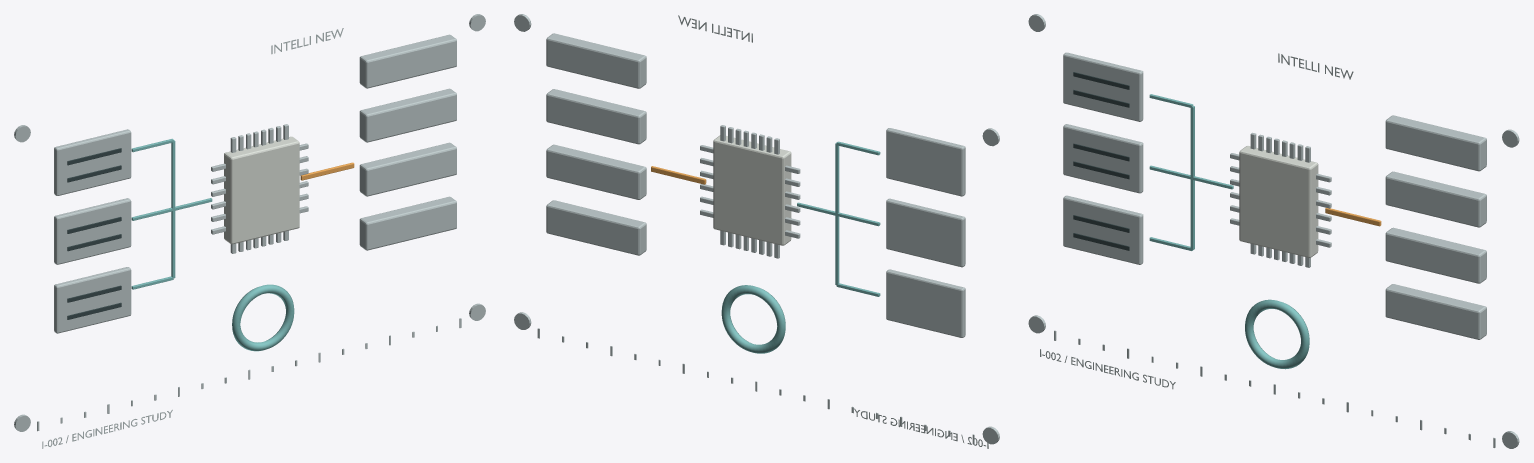
The model's file is intelli-new.glb.
The picture shows the model from 3 angles, left to right: view 1: azimuth 30°, elevation 25°; view 2: azimuth 150°, elevation 25°; view 3: azimuth 330°, elevation 25°; orthographic projection. The views are drawn at different scales.
Parts seen in each view (by area): view 1: optical-core__Project_Silver.007, optical-core__Project_Ceramic.009, optical-lenses__Project_Silver.009, optical-lenses__Project_Trace.008, optical-core__Project_Graphite.008; view 2: optical-core__Project_Silver.007, optical-core__Project_Ceramic.009, optical-lenses__Project_Silver.009, optical-lenses__Project_Trace.008; view 3: optical-core__Project_Silver.007, optical-core__Project_Ceramic.009, optical-lenses__Project_Silver.009, optical-lenses__Project_Trace.008, optical-core__Project_Graphite.008.
Part boxes in pixels (bbox=[...]): optical-core__Project_Silver.007: bbox=[54, 34, 456, 333]; optical-core__Project_Ceramic.009: bbox=[224, 136, 299, 244]; optical-lenses__Project_Silver.009: bbox=[14, 14, 485, 448]; optical-lenses__Project_Trace.008: bbox=[131, 138, 294, 351]; optical-core__Project_Graphite.008: bbox=[67, 148, 121, 319]; optical-core__Project_Silver.007: bbox=[546, 33, 965, 337]; optical-core__Project_Ceramic.009: bbox=[713, 135, 791, 245]; optical-lenses__Project_Silver.009: bbox=[514, 14, 999, 448]; optical-lenses__Project_Trace.008: bbox=[721, 141, 880, 353]; optical-core__Project_Silver.007: bbox=[1063, 52, 1486, 339]; optical-core__Project_Ceramic.009: bbox=[1239, 146, 1318, 257]; optical-lenses__Project_Silver.009: bbox=[1028, 14, 1519, 448]; optical-lenses__Project_Trace.008: bbox=[1149, 94, 1309, 369]; optical-core__Project_Graphite.008: bbox=[1073, 72, 1129, 250].
Size of the model in its own units: 4.01 by 2.83 by 0.1637.
